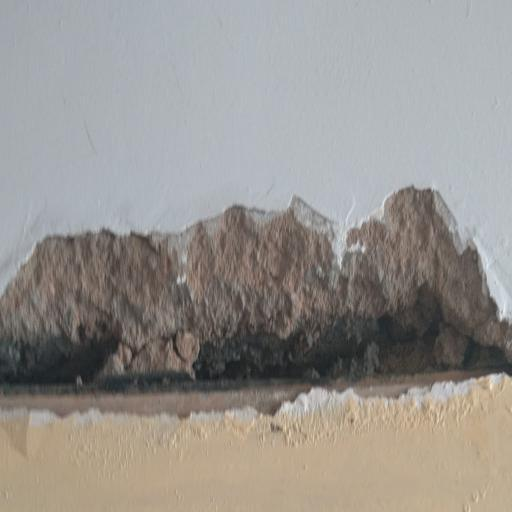spalling: (0, 183, 512, 429)
